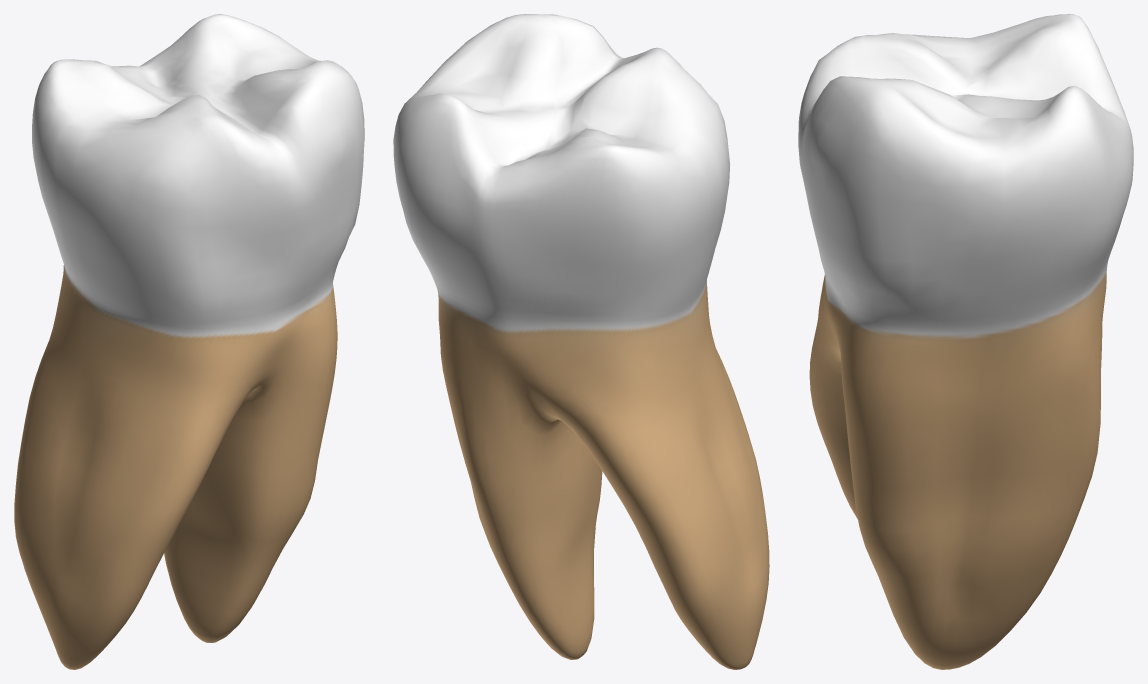
The picture shows the model from 3 angles, left to right: view 1: azimuth 30°, elevation 25°; view 2: azimuth 150°, elevation 25°; view 3: azimuth 270°, elevation 25°; orthographic projection. The views are drawn at different scales.
Parts seen in each view (by area): view 1: polySurface19 group4 dfhjghkljk; view 2: polySurface19 group4 dfhjghkljk; view 3: polySurface19 group4 dfhjghkljk.
Boxes of the visible parts, x1=… form: polySurface19 group4 dfhjghkljk: x1=14, y1=14, x2=364, y2=669; polySurface19 group4 dfhjghkljk: x1=393, y1=14, x2=769, y2=669; polySurface19 group4 dfhjghkljk: x1=798, y1=14, x2=1133, y2=669.
Size of the model in its own units: 3.14 by 5.69 by 2.77.
Materials: 1 (1 with a texture image).
